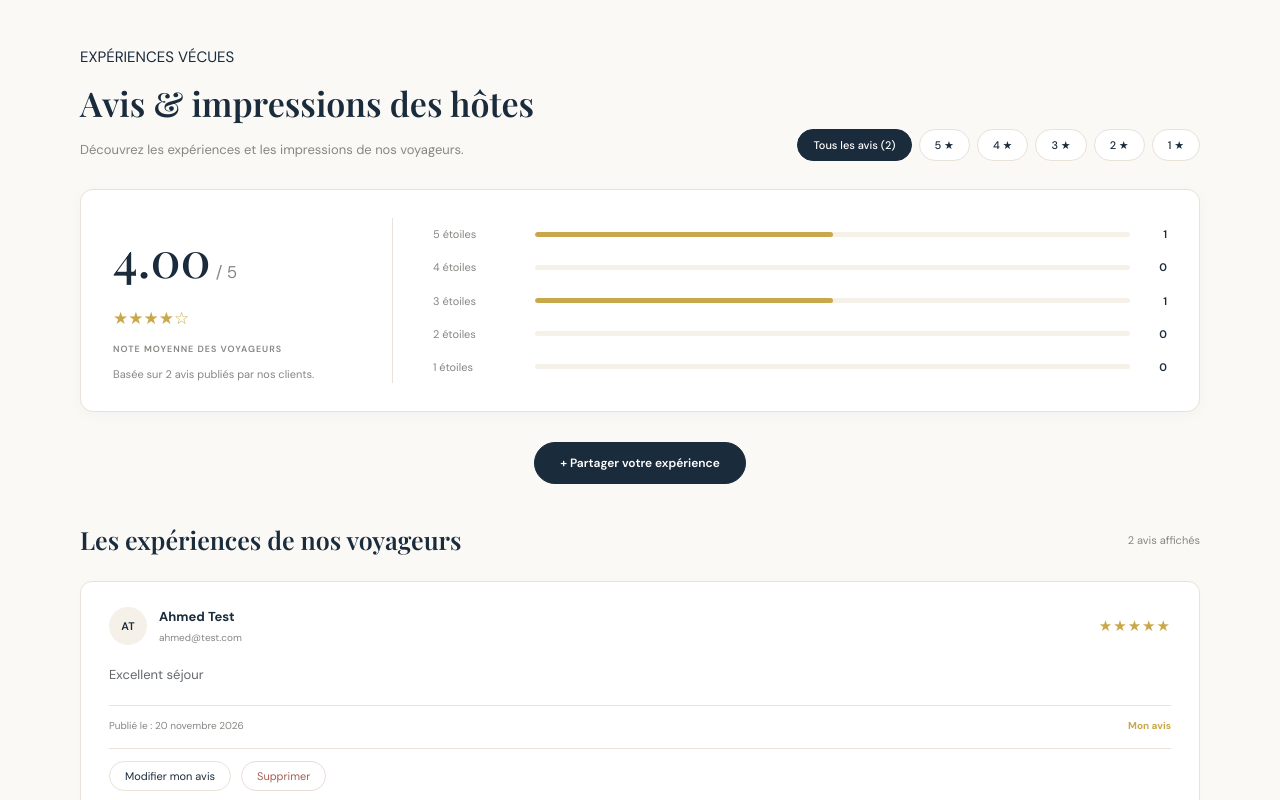
Test: ClientAvisPage › filtre les avis par note
Expected: the text "Excellent séjour" is shown, 109,666 -> 204,684
Click the button "5 ★".
click(944, 145)  # box 918,129 -> 970,161
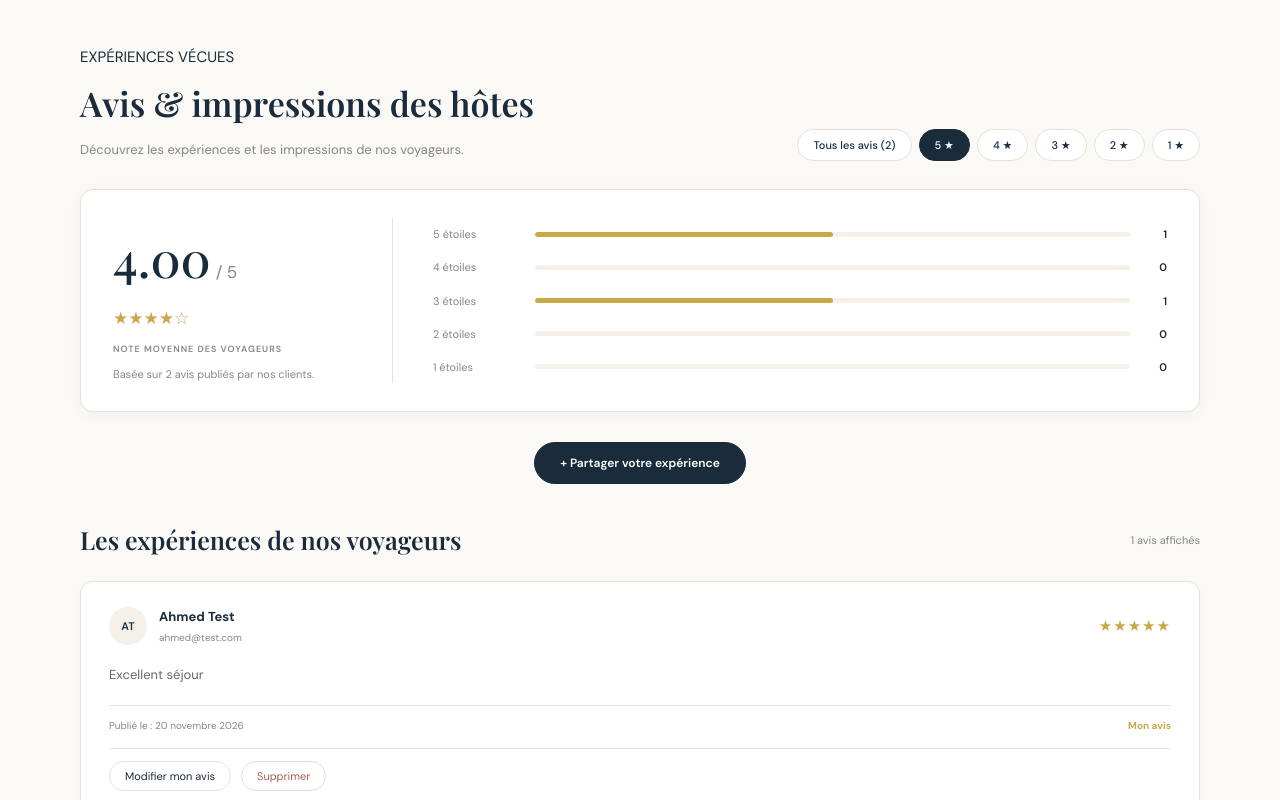
Expected: the text "Excellent séjour" is shown, 109,666 -> 204,684
Expected: the text "1 avis affichés" is shown, 1131,531 -> 1200,549
